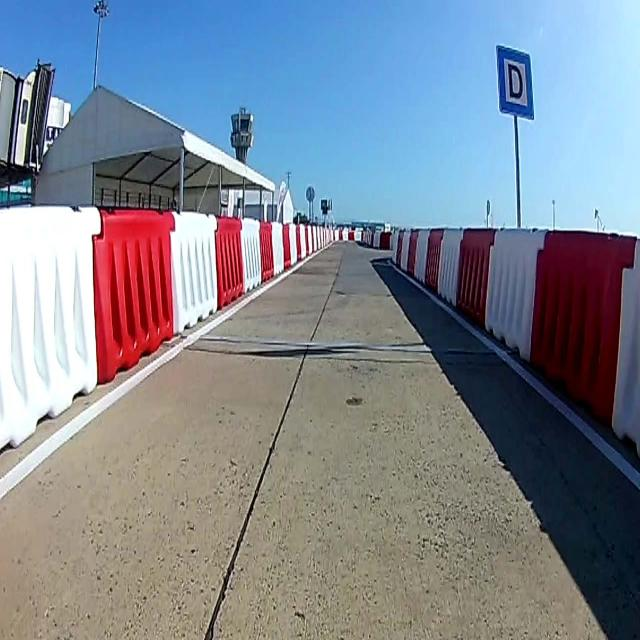durak: (498, 45, 534, 118)
